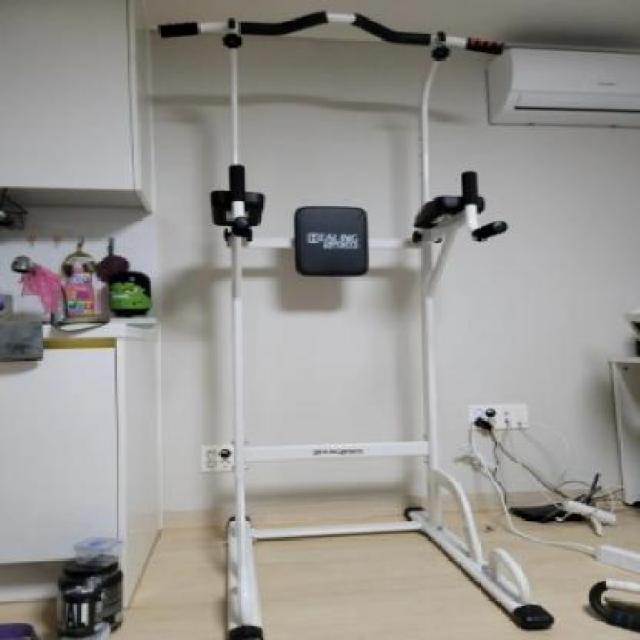chinning dipping: (158, 11, 557, 640)
